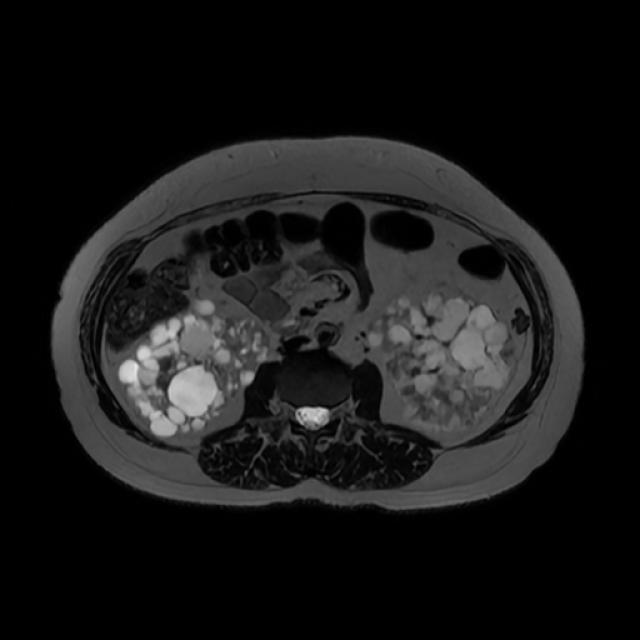sag: (119, 300, 269, 435)
sol: (367, 292, 512, 436)
